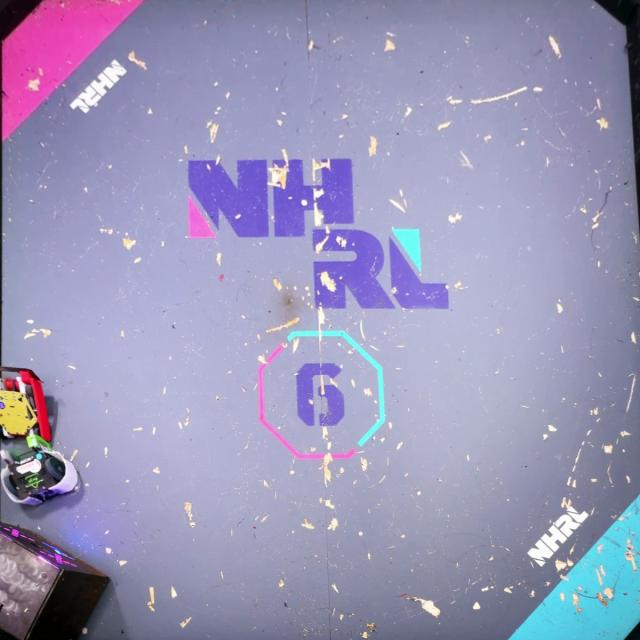housebot: (0, 520, 111, 640)
robot: (0, 444, 80, 506), (0, 364, 53, 444)
